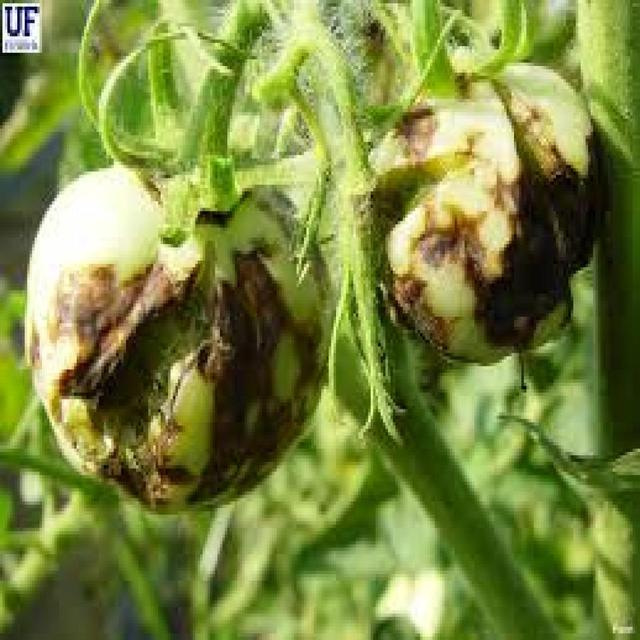Spotted wilt Virus Fruit: (46, 119, 327, 208)
